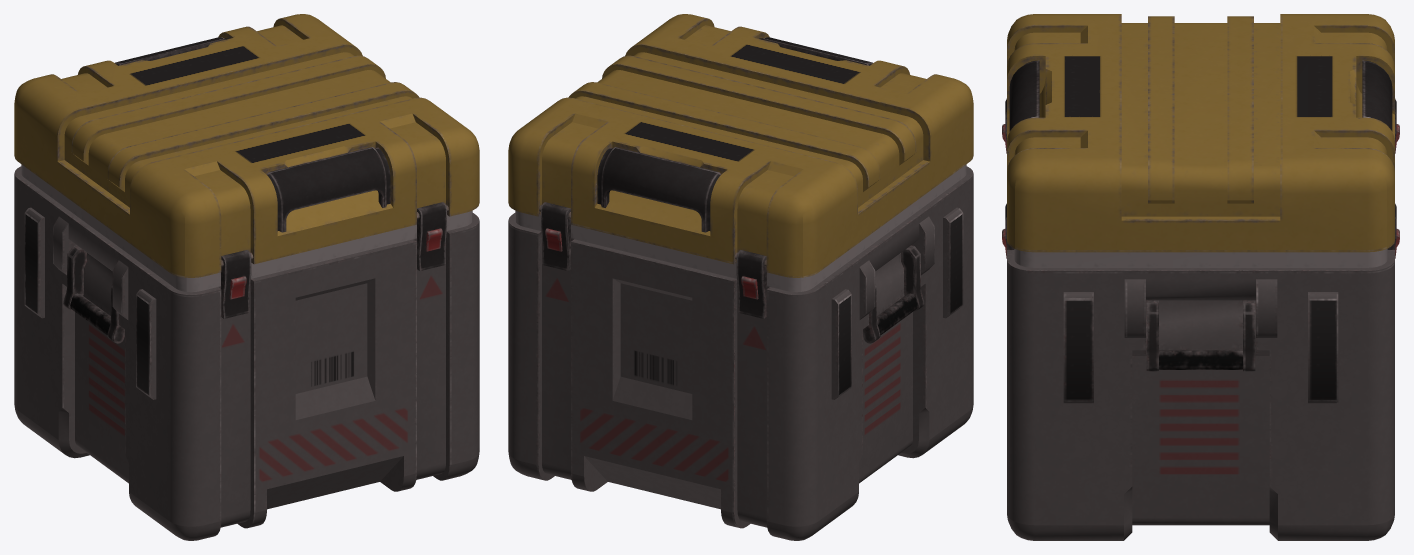
Rendered from container.fbx.
3 views of the same model, side by side, from view 1: azimuth 30°, elevation 25°; view 2: azimuth 150°, elevation 25°; view 3: azimuth 270°, elevation 25° (orthographic). The views are drawn at different scales.
Visible parts, largest first — view 1: Container; view 2: Container; view 3: Container.
Boxes of the visible parts, <box> form: Container: <box>14,14,479,540</box>; Container: <box>508,14,973,540</box>; Container: <box>1002,14,1399,540</box>.
Size of the model in its own units: 1.77 by 1.84 by 1.74.
